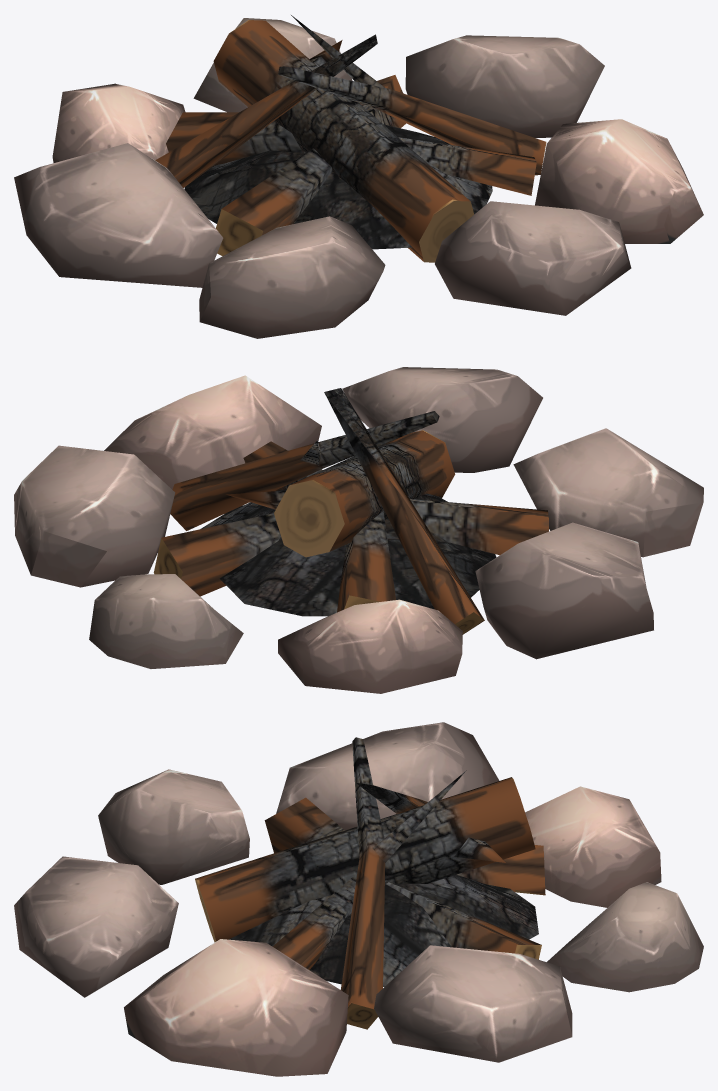
Rendered from ROK0310001.fbx.
3 views of the same model, one above another, from view 1: azimuth 30°, elevation 25°; view 2: azimuth 150°, elevation 25°; view 3: azimuth 270°, elevation 25° (orthographic).
Visible parts, largest first — view 1: smROK0310001; view 2: smROK0310001; view 3: smROK0310001.
Part boxes in pixels (x1=…): smROK0310001: x1=14, y1=15, x2=703, y2=338; smROK0310001: x1=14, y1=367, x2=703, y2=693; smROK0310001: x1=14, y1=722, x2=703, y2=1076.
Bounding box in the file's own units: 114 × 31.91 × 114.
Materials: 1 (1 with a texture image).
